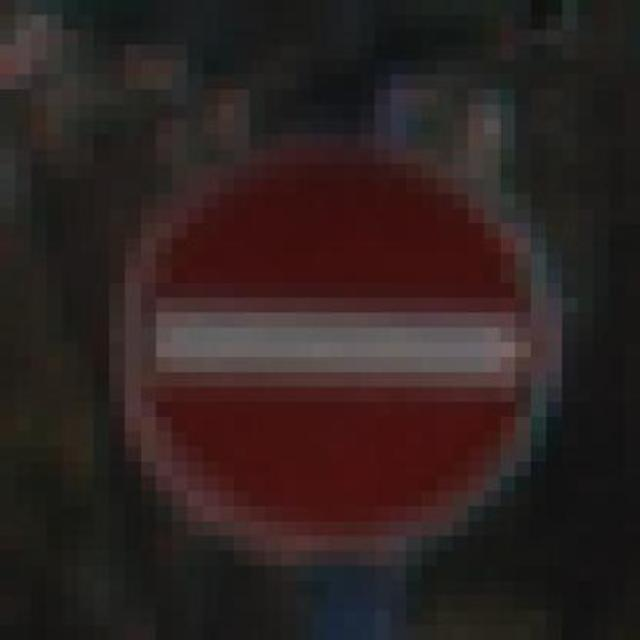No Entry: (93, 89, 562, 580)
